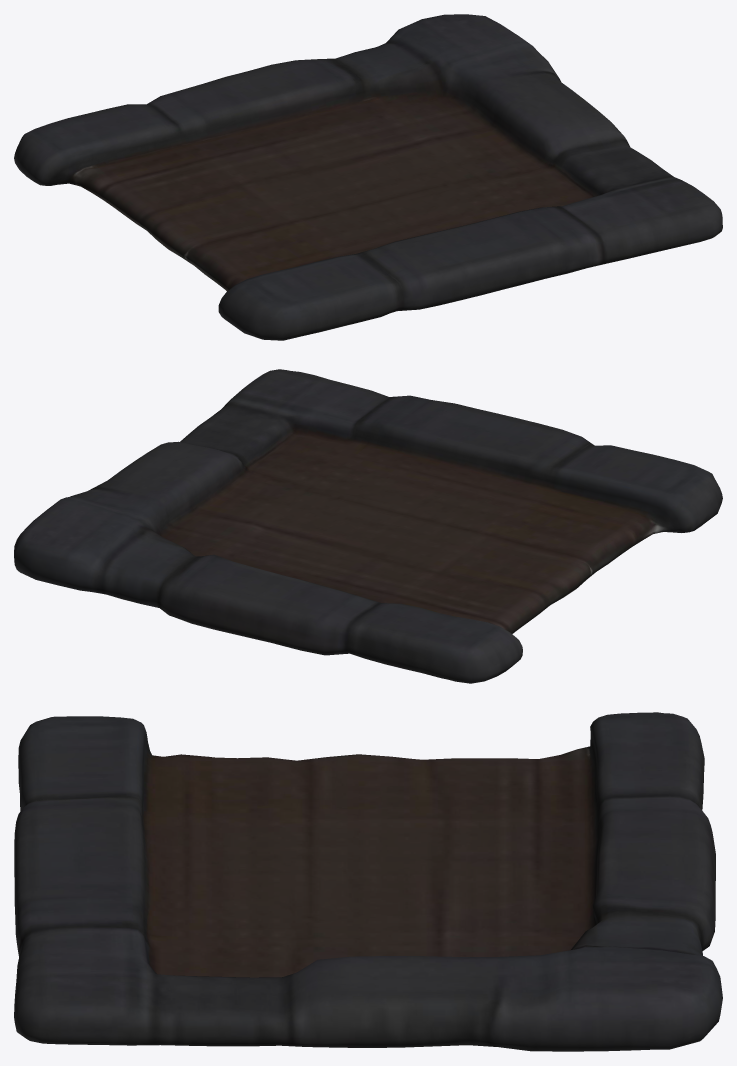
Rendered from 0533fd67f4da_0e9fd3d4b9b3_stone_stylized_wood.glb.
3 renders of one model, top to bottom at view 1: azimuth 30°, elevation 25°; view 2: azimuth 150°, elevation 25°; view 3: azimuth 270°, elevation 25°, orthographic. The views are drawn at different scales.
Visible parts, largest first — view 1: mesh; view 2: mesh; view 3: mesh.
Boxes of the visible parts, x1,y1,x2,y2 form: mesh: [14, 14, 722, 340]; mesh: [14, 369, 722, 683]; mesh: [14, 712, 722, 1051].
Size of the model in its own units: 0.9991 by 0.088 by 0.9489.
Materials: 1 (1 with a texture image).
